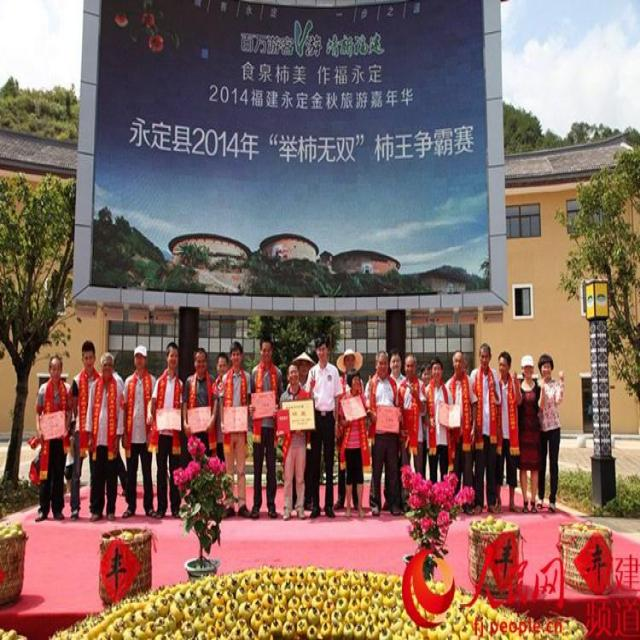non-fight: (364, 348, 412, 518), (31, 348, 77, 521), (468, 340, 510, 512), (523, 352, 567, 512), (213, 343, 253, 515), (120, 346, 157, 518), (278, 357, 316, 519), (87, 354, 122, 517), (182, 346, 215, 502)
